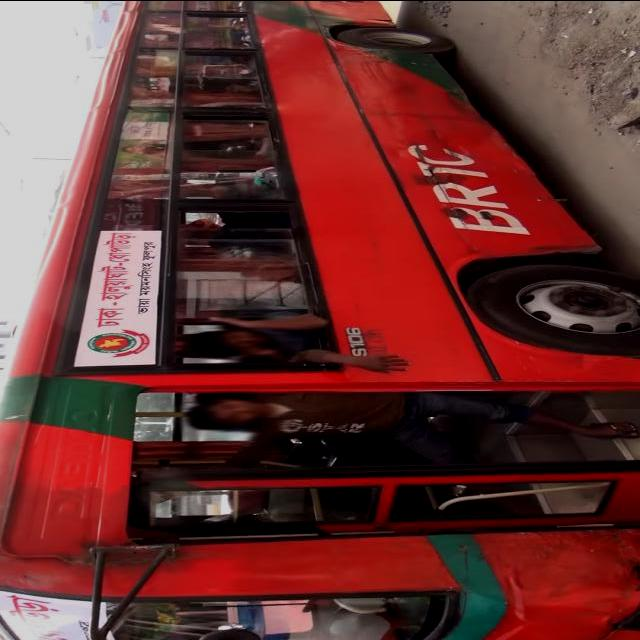bus: (1, 1, 640, 640)
